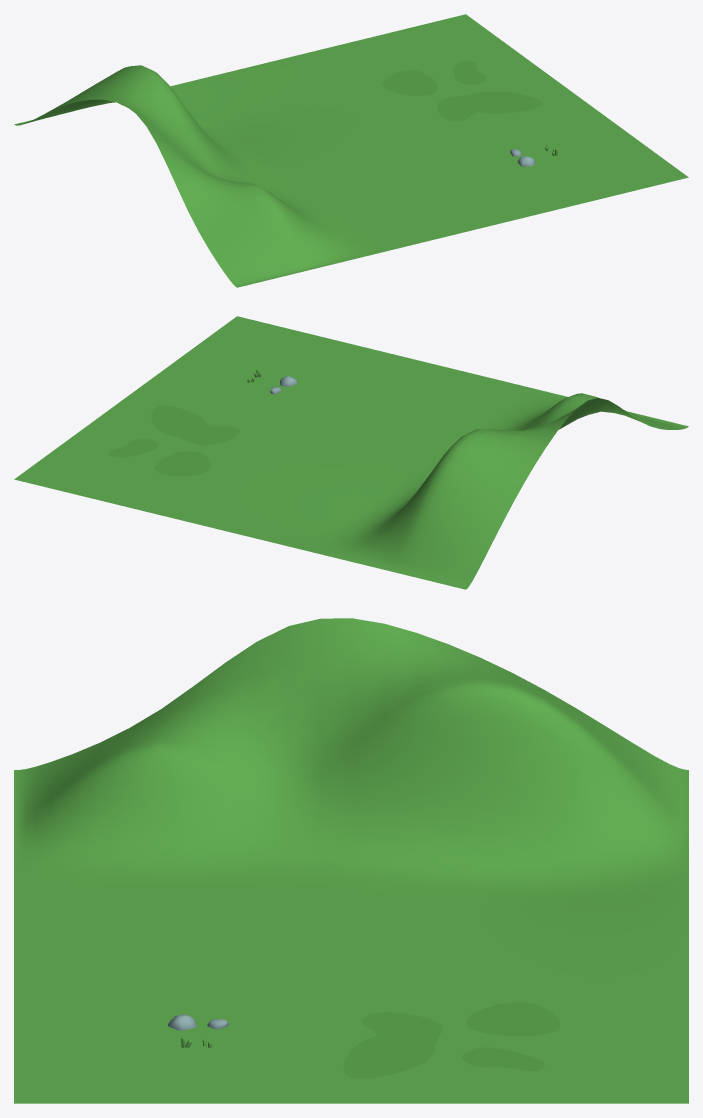
The model's file is LandscapeSimple.fbx.
3 renders of one model, top to bottom at view 1: azimuth 30°, elevation 25°; view 2: azimuth 150°, elevation 25°; view 3: azimuth 270°, elevation 25°, orthographic. The views are drawn at different scales.
Parts seen in each view (by area): view 1: Ground, GroundPatch01, GroundPatch02, GroundPatch03; view 2: Ground, GroundPatch01, GroundPatch02, GroundPatch03; view 3: Ground, GroundPatch01, GroundPatch02, GroundPatch03.
Boxes of the visible parts, x1,y1,x2,y2 form: Ground: [14, 14, 688, 287]; GroundPatch01: [437, 91, 542, 120]; GroundPatch02: [382, 70, 437, 95]; GroundPatch03: [454, 60, 485, 84]; Ground: [14, 316, 688, 589]; GroundPatch01: [151, 405, 239, 445]; GroundPatch02: [154, 451, 210, 475]; GroundPatch03: [108, 438, 158, 457]; Ground: [14, 618, 688, 1103]; GroundPatch01: [343, 1012, 442, 1078]; GroundPatch02: [466, 1002, 559, 1035]; GroundPatch03: [461, 1047, 544, 1071].
Bounding box in the file's own units: 2262 × 498 × 1934.
Materials: 1 (1 with a texture image).
